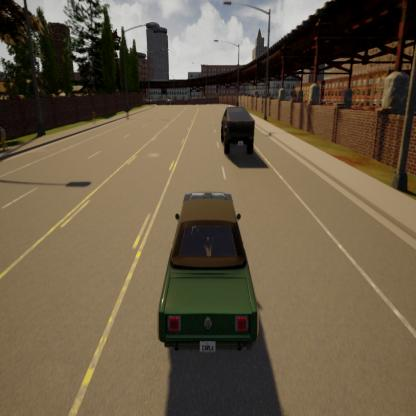Cars: (158, 190, 258, 360), (220, 104, 256, 160)
Pedestrian: (0, 124, 7, 154), (91, 104, 96, 123)
